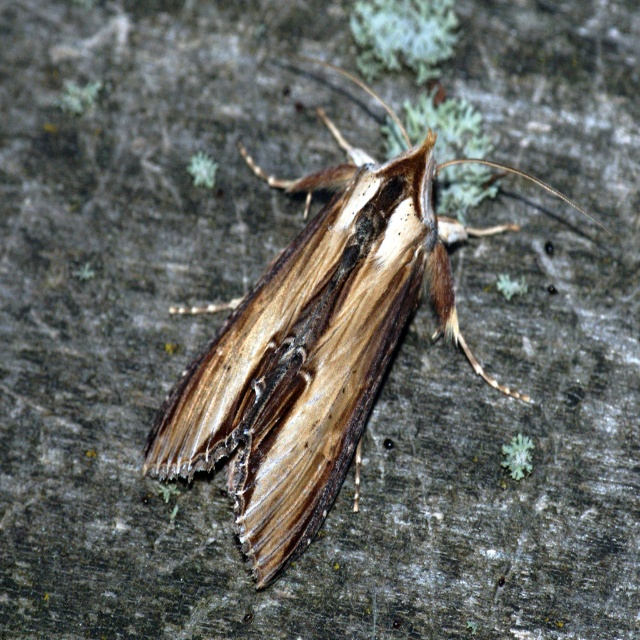Moths and butterflies: (143, 56, 614, 591)
